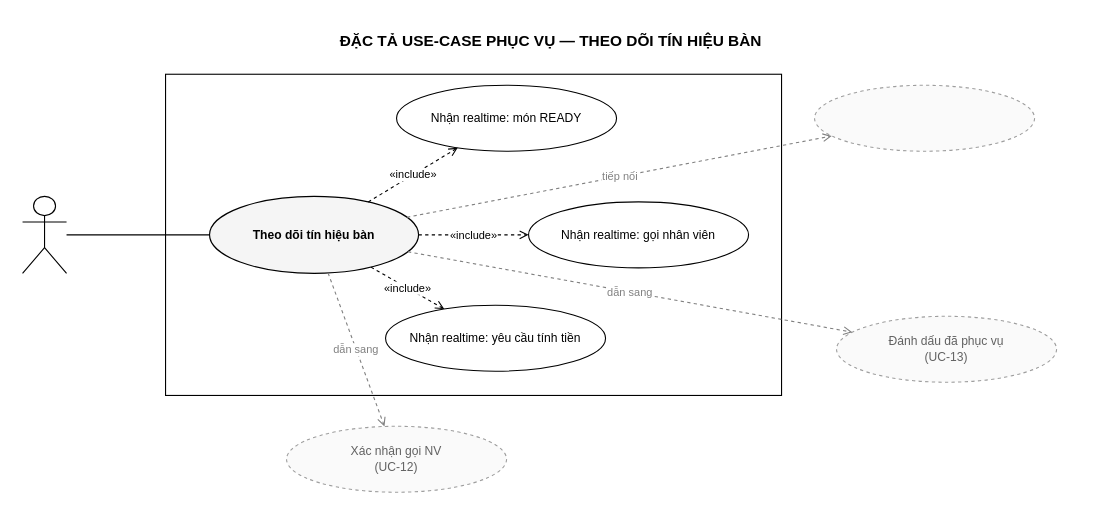
Image size: 1098x512. Some labels were removed from this diagram. Here are the shapes that lost their labels. From the top down, the box of each, then its label:
(813, 84, 1035, 151): Lưới bàn (UC-10)
(21, 195, 67, 273): Phục vụ
